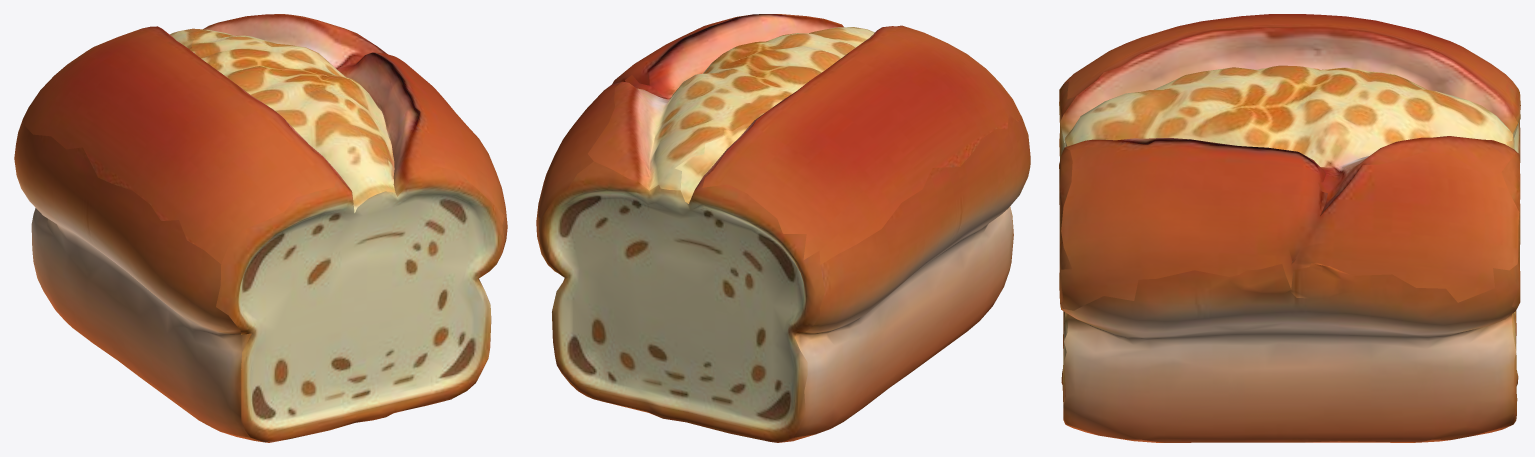
File: bread.glb
3 renders of one model, left to right at view 1: azimuth 30°, elevation 25°; view 2: azimuth 150°, elevation 25°; view 3: azimuth 270°, elevation 25°, orthographic. The views are drawn at different scales.
Parts seen in each view (by area): view 1: item_bread; view 2: item_bread; view 3: item_bread.
Boxes of the visible parts, x1,y1,x2,y2 form: item_bread: [14, 14, 507, 442]; item_bread: [536, 14, 1030, 442]; item_bread: [1059, 14, 1520, 442].
Size of the model in its own units: 0.9591 by 0.7815 by 1.
Materials: 1 (1 with a texture image).
